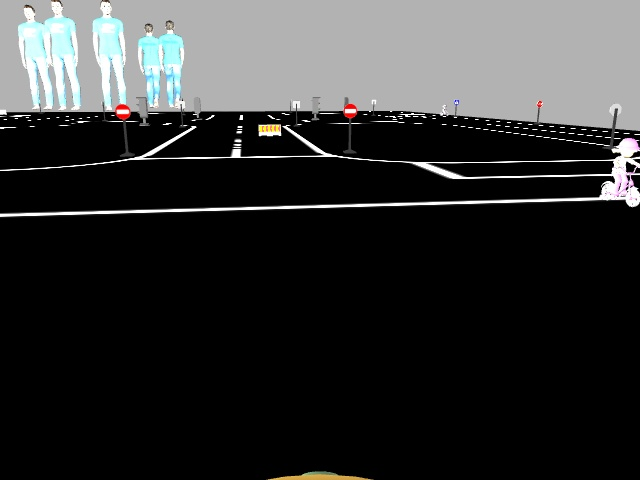ClosedRoadStand: (259, 125, 280, 136)
NoEntry: (113, 103, 129, 121), (342, 104, 357, 117)
Pedestrian: (597, 138, 639, 202)
